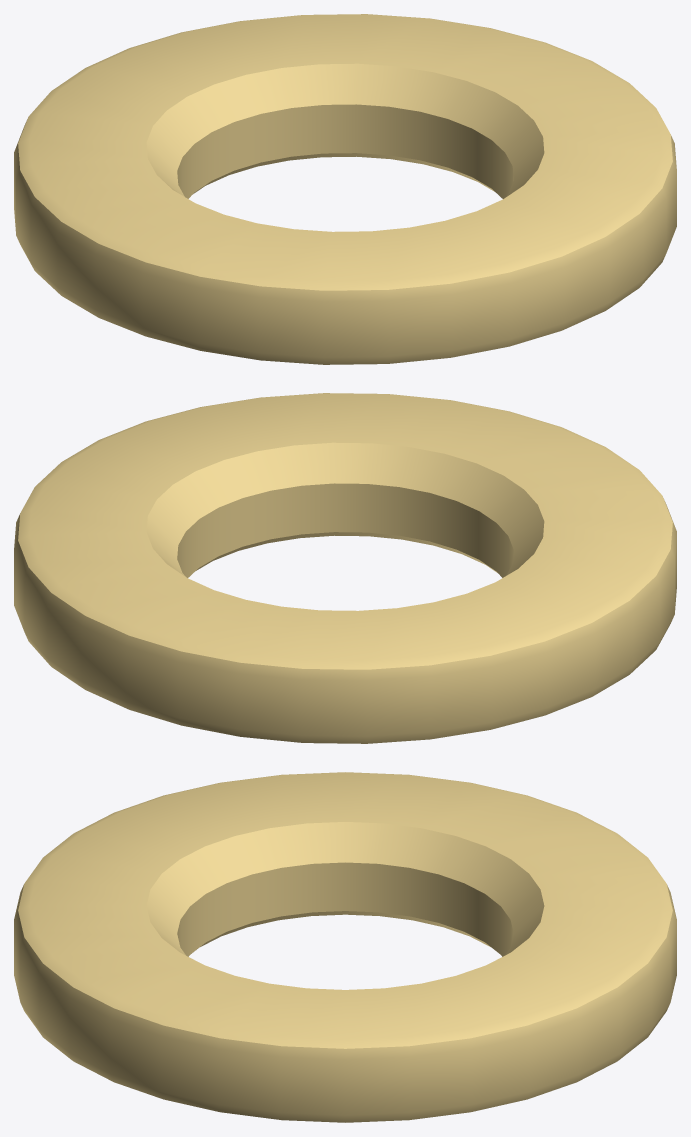
File: os41_washer_13_lod1.glb
The picture shows the model from 3 angles, top to bottom: view 1: azimuth 30°, elevation 25°; view 2: azimuth 150°, elevation 25°; view 3: azimuth 270°, elevation 25°; orthographic projection.
Parts seen in each view (by area): view 1: os41_washer_13; view 2: os41_washer_13; view 3: os41_washer_13.
Boxes of the visible parts, <box> form: os41_washer_13: <box>14,14,676,364</box>; os41_washer_13: <box>14,393,676,743</box>; os41_washer_13: <box>14,772,676,1122</box>.
Bounding box in the file's own units: 0.013 × 0.0018 × 0.013.
